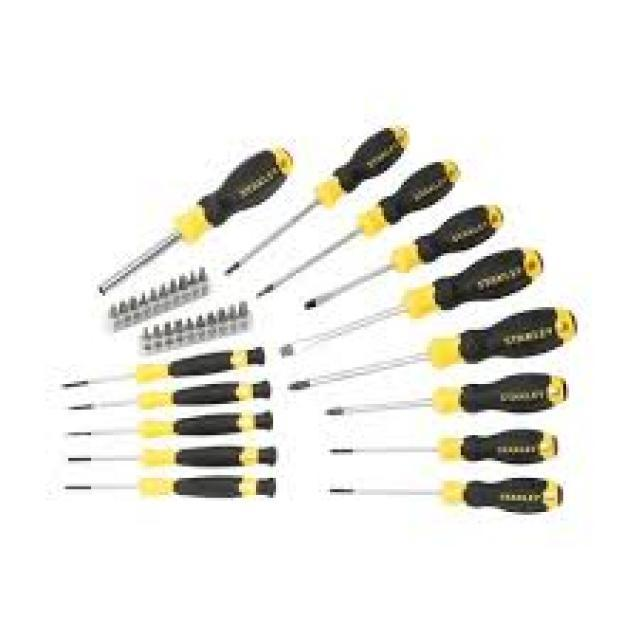screwdriver: (253, 155, 467, 300), (276, 246, 546, 360), (222, 122, 418, 279), (286, 304, 584, 398), (303, 200, 508, 314), (321, 370, 569, 418), (58, 343, 266, 394), (324, 426, 560, 470), (321, 478, 566, 518), (44, 470, 283, 502), (68, 376, 273, 412), (65, 407, 279, 441), (67, 442, 280, 470)
